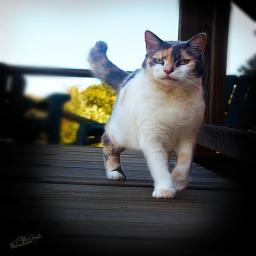catnose: (162, 67, 174, 75)
